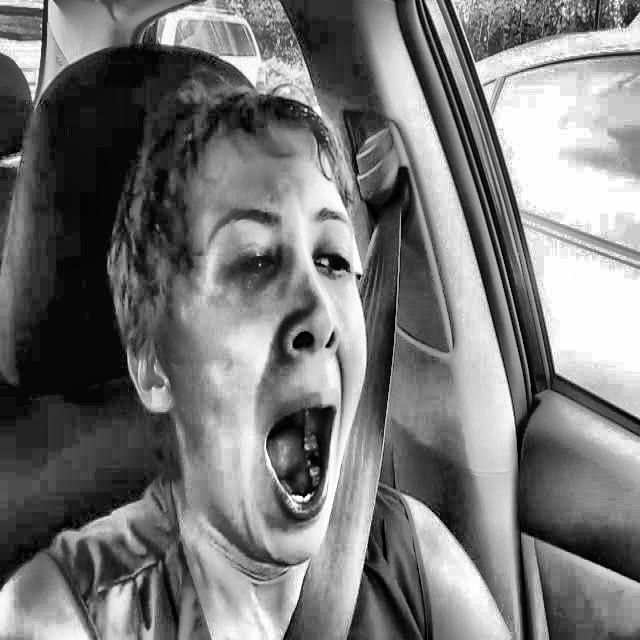open_eyes: (218, 232, 288, 290), (303, 234, 366, 291)
open_mouth: (240, 379, 355, 541)
